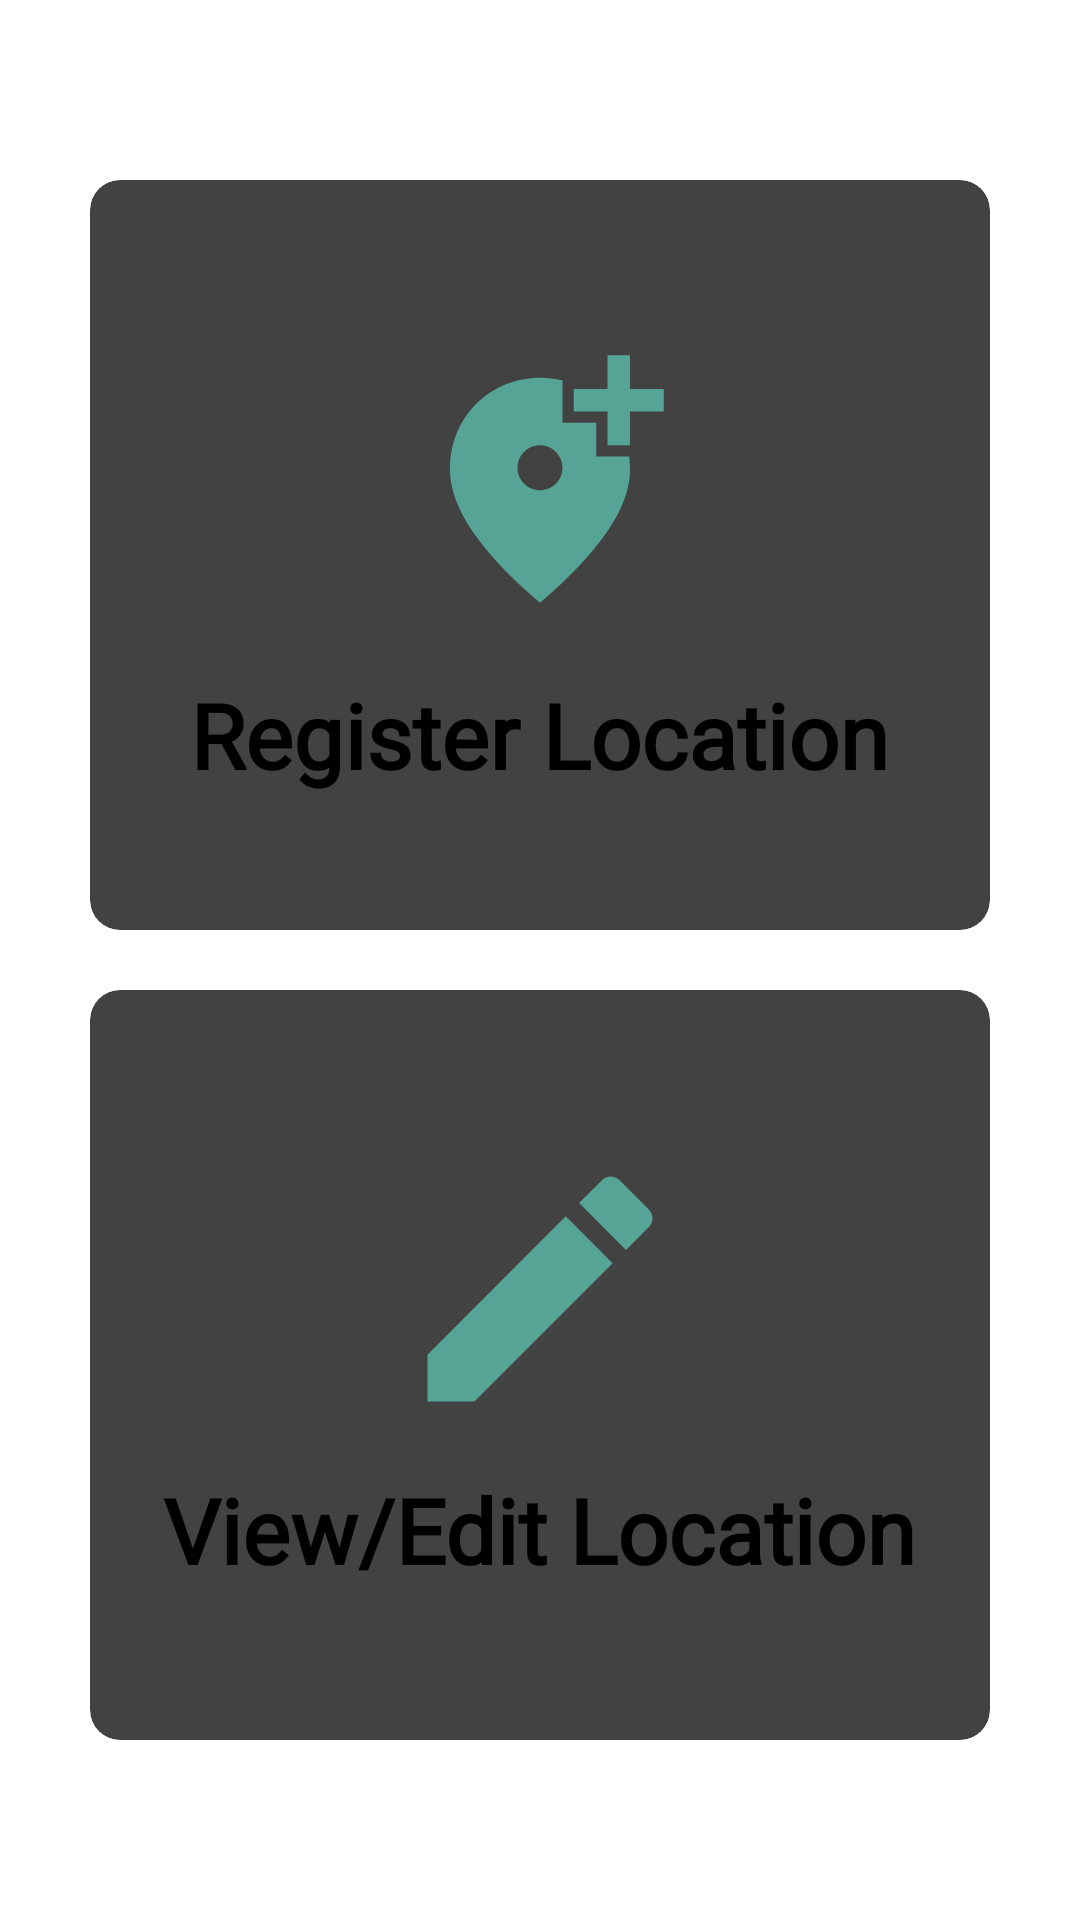

Icons on this 1080×1920 Android screen, each with its box as rect(x1, y1, x2, y2):
add location: rect(450, 355, 664, 603)
